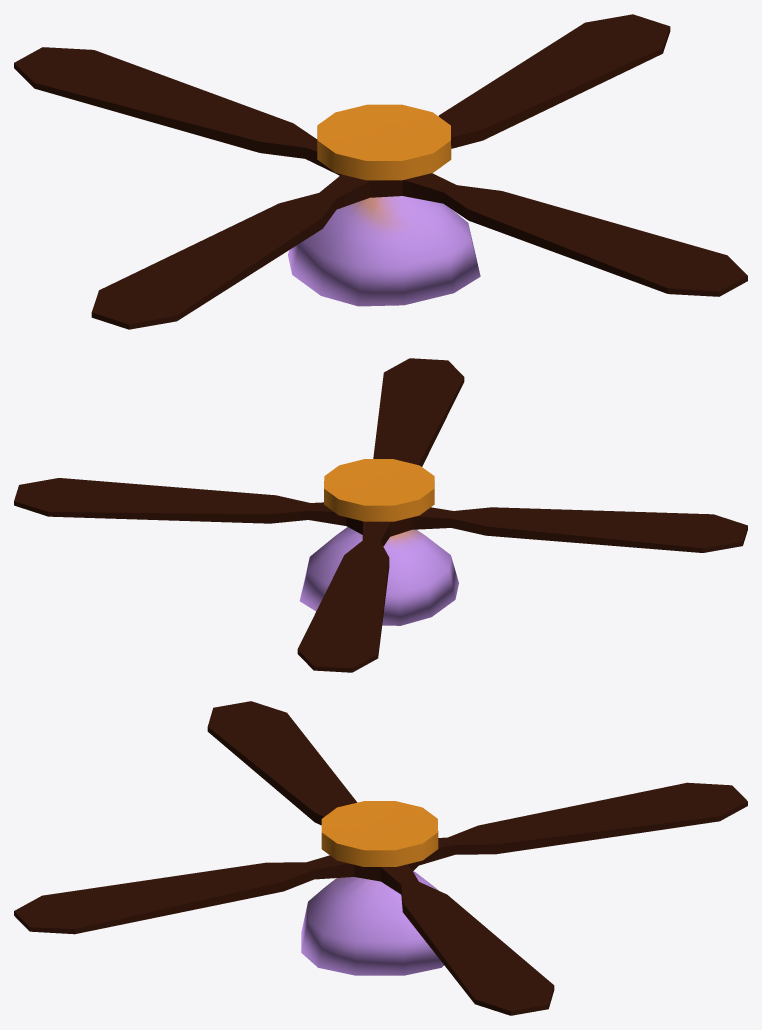
File: CeilingFan.fbx
3 renders of one model, top to bottom at view 1: azimuth 30°, elevation 25°; view 2: azimuth 150°, elevation 25°; view 3: azimuth 270°, elevation 25°, orthographic. The views are drawn at different scales.
Visible parts, largest first — view 1: pPipe1, pCube8; view 2: pPipe1, pCube8; view 3: pPipe1, pCube8.
Part boxes in pixels (x1,y1,x2,y2): pPipe1: (14,14,747,329); pCube8: (288,104,480,306); pPipe1: (14,358,747,672); pCube8: (299,459,458,625); pPipe1: (14,701,747,1015); pCube8: (301,801,444,975).
Bounding box in the file's own units: 6.5 × 1.14 × 6.5.
Materials: 2 (2 with a texture image).
